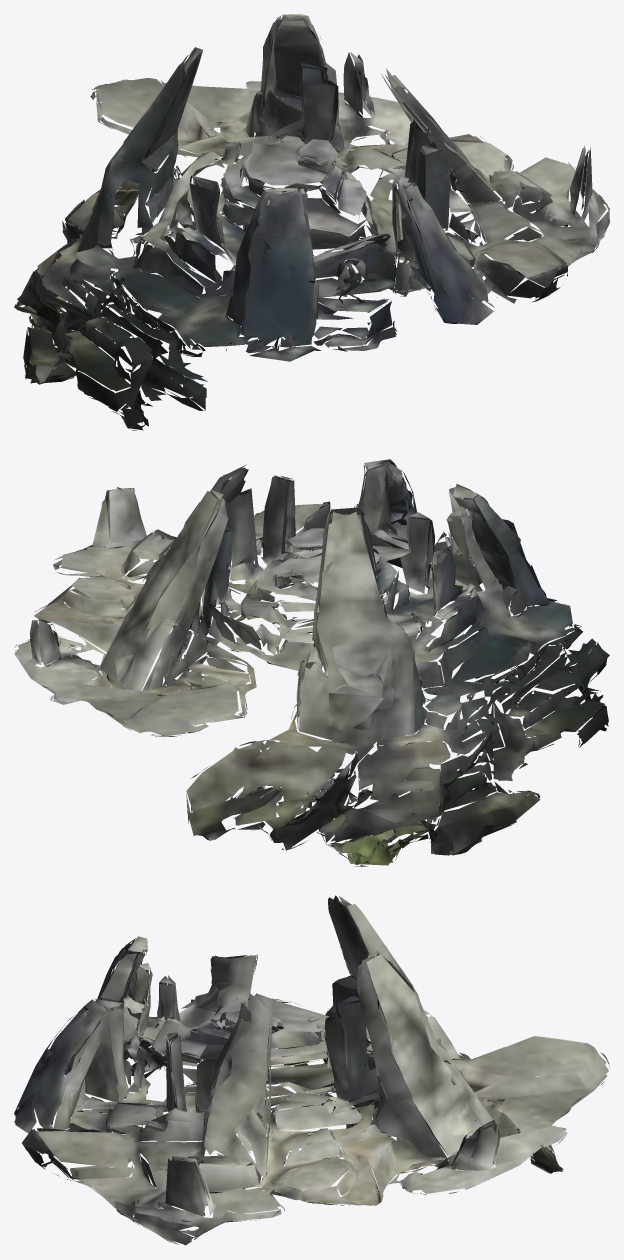
The model's file is tython-seeing-stone.lo.glb.
3 renders of one model, top to bottom at view 1: azimuth 30°, elevation 25°; view 2: azimuth 150°, elevation 25°; view 3: azimuth 270°, elevation 25°, orthographic. The views are drawn at different scales.
Parts seen in each view (by area): view 1: low; view 2: low; view 3: low.
Part boxes in pixels (left/top/right/bottom): low: left=14, top=14, right=609, bottom=430; low: left=14, top=459, right=609, bottom=866; low: left=14, top=895, right=609, bottom=1245.
Bounding box in the file's own units: 0.8217 × 0.4516 × 0.839.
Materials: 1 (1 with a texture image).
